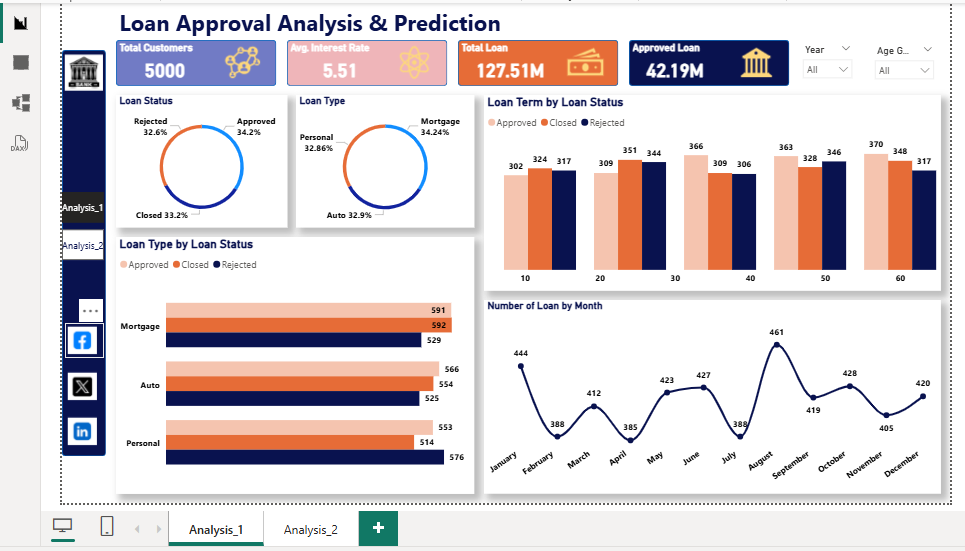

Layout of this report page (visuals, bound fields, positions):
{"tool":"powerbi","page":{"name":"Analysis_1","canvas":[1280,720],"ordinal":0},"visuals":[{"type":"group","id":"g1","title":"Group 1","box":[77.9,52.9,230.7,66.1],"z":0,"group":"g5"},{"type":"shape","box":[817,52.9,230.7,66.1],"z":0,"group":"g4"},{"type":"donutChart","title":"Loan Status","fields":{"Y":["CountNonNull(Loan_Fact_Table.Loan ID)"],"Category":["Loan_Dimension.Loan Status"]},"box":[77.9,132.2,246.9,191],"z":0},{"type":"group","id":"g2","title":"Group 2","box":[324.3,52.9,230.7,66.1],"z":1000,"group":"g5"},{"type":"shape","box":[570.6,52.9,230.7,66.1],"z":1000,"group":"g3"},{"type":"donutChart","title":"Loan Type","fields":{"Category":["Loan_Type _ID.Loan Type"],"Y":["CountNonNull(Loan_Dimension.Loan ID)"]},"box":[336.5,132.2,257.1,191],"z":1000},{"type":"shape","box":[324.3,52.9,230.7,66.1],"z":2000,"group":"g2"},{"type":"group","id":"g3","title":"Group 3","box":[570.1,52.9,231.2,66.1],"z":2000,"group":"g5"},{"type":"clusteredBarChart","title":" Loan Type by Loan Status","fields":{"Category":["Loan_Type _ID.Loan Type"],"Y":["CountNonNull(Loan_Dimension.Loan ID)"],"Series":["Loan_Dimension.Loan Status"]},"box":[77.9,336.5,515.8,370.3],"z":2000},{"type":"shape","box":[77.9,52.9,230.7,66.1],"z":3000,"group":"g1"},{"type":"group","id":"g4","title":"Group 4","box":[817,52.9,230.7,67.6],"z":3000,"group":"g5"},{"type":"clusteredColumnChart","title":"Loan Term by Loan Status","fields":{"Category":["Loan_Dimension.Loan Term"],"Y":["CountNonNull(Loan_Dimension.Loan ID)"],"Series":["Loan_Dimension.Loan Status"]},"box":[608.3,132.2,658.3,282.1],"z":3000},{"type":"card","title":"Total Customers","fields":{"Values":["Count(Customer_Dimension.Customer ID)"]},"box":[77.9,55.8,139.6,63.2],"z":4000,"group":"g1"},{"type":"lineChart","fields":{"Category":["Loan_Dimension.Approval/Rejection Date.Variation.Date Hierarchy.Month"],"Y":["CountNonNull(Loan_Dimension.Loan ID)"]},"box":[608.3,427.6,658.3,279.2],"z":4000},{"type":"slicer","fields":{"Values":["ML_Loan_Predictions_CLEANED.Approval/Rejection Date.Variation.Date Hierarchy.Year"]},"box":[1056.5,52.9,91.1,64.7],"z":5000},{"type":"card","title":"Total Loan","fields":{"Values":["Sum(Loan_Fact_Table.Loan Amount)"]},"box":[570.1,55.8,149.9,63.2],"z":5000,"group":"g3"},{"type":"card","title":"Avg. Interest Rate","fields":{"Values":["Avg(Loan_Dimension.Interest Rate)"]},"box":[324.8,55.8,152.8,63.2],"z":6000,"group":"g2"},{"type":"shape","box":[0,67.6,63.2,584.8],"z":6000},{"type":"textbox","box":[77.8,0,577.4,53.3],"z":7000},{"type":"card","title":"Approved Loan","fields":{"Values":["Account_Dimension.Total Loan Approved"]},"box":[817,55.8,132.2,64.7],"z":7000,"group":"g4"},{"type":"actionButton","box":[0,67.6,63.2,64.7],"z":8000},{"type":"actionButton","box":[4.4,461.4,55.8,50],"z":9000},{"type":"actionButton","box":[4.4,592.2,55.8,50],"z":10000},{"type":"actionButton","box":[4.4,526.8,55.8,50],"z":11000},{"type":"group","id":"g5","title":"Group 5","box":[77.9,52.9,969.8,67.6],"z":12000},{"type":"pageNavigator","box":[0,271.8,60.2,99.9],"z":13000},{"type":"slicer","fields":{"Values":["Customer_Dimension.Age Group"]},"box":[1160.6,54.7,105.1,64.8],"z":14000},{"type":"actionButton","box":[476.1,52.9,69.1,64.7],"z":15000,"group":"g2"},{"type":"actionButton","box":[968.3,52.9,69.1,64.7],"z":16000,"group":"g4"},{"type":"actionButton","box":[721.4,52.9,69.1,64.7],"z":17000,"group":"g3"},{"type":"actionButton","box":[227.8,52.9,69.1,64.7],"z":18000,"group":"g1"}]}

Visuals, with their boxes on the page's 1280x720 design canvas (x1, y1, x2, y2). These are canvas units, not pixel positions in the 965x551 screenshot, which may show the page scaled, cropped or inside an application window:
"Group 1" group: bbox=(78, 53, 309, 119)
shape: bbox=(817, 53, 1048, 119)
"Loan Status" donutChart: bbox=(78, 132, 325, 323)
"Group 2" group: bbox=(324, 53, 555, 119)
shape: bbox=(571, 53, 801, 119)
"Loan Type" donutChart: bbox=(336, 132, 594, 323)
shape: bbox=(324, 53, 555, 119)
"Group 3" group: bbox=(570, 53, 801, 119)
" Loan Type by Loan Status" clusteredBarChart: bbox=(78, 336, 594, 707)
shape: bbox=(78, 53, 309, 119)
"Group 4" group: bbox=(817, 53, 1048, 120)
"Loan Term by Loan Status" clusteredColumnChart: bbox=(608, 132, 1267, 414)
"Total Customers" card: bbox=(78, 56, 218, 119)
lineChart - Loan_Dimension.Approval/Rejection Date.Variation.Date Hierarchy.Month x CountNonNull(Loan_Dimension.Loan ID): bbox=(608, 428, 1267, 707)
slicer - ML_Loan_Predictions_CLEANED.Approval/Rejection Date.Variation.Date Hierarchy.Year: bbox=(1056, 53, 1148, 118)
"Total Loan" card: bbox=(570, 56, 720, 119)
"Avg. Interest Rate" card: bbox=(325, 56, 478, 119)
shape: bbox=(0, 68, 63, 652)
textbox: bbox=(78, 0, 655, 53)
"Approved Loan" card: bbox=(817, 56, 949, 120)
actionButton: bbox=(0, 68, 63, 132)
actionButton: bbox=(4, 461, 60, 511)
actionButton: bbox=(4, 592, 60, 642)
actionButton: bbox=(4, 527, 60, 577)
"Group 5" group: bbox=(78, 53, 1048, 120)
pageNavigator: bbox=(0, 272, 60, 372)
slicer - Customer_Dimension.Age Group: bbox=(1161, 55, 1266, 120)
actionButton: bbox=(476, 53, 545, 118)
actionButton: bbox=(968, 53, 1037, 118)
actionButton: bbox=(721, 53, 790, 118)
actionButton: bbox=(228, 53, 297, 118)
